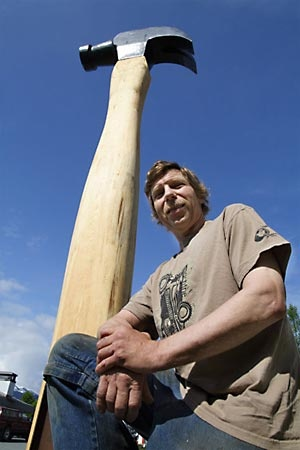hammer: (78, 25, 199, 155)
